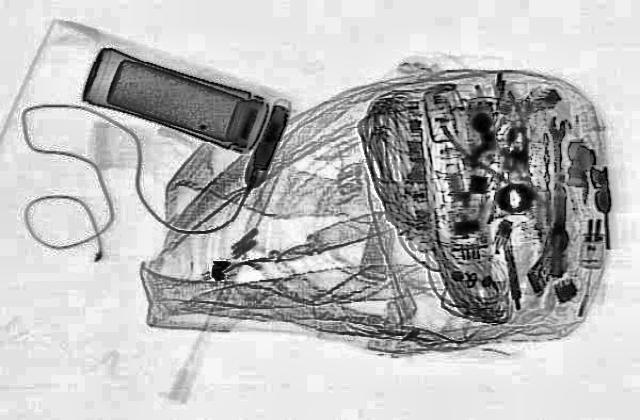Wrench: (546, 114, 570, 252)
